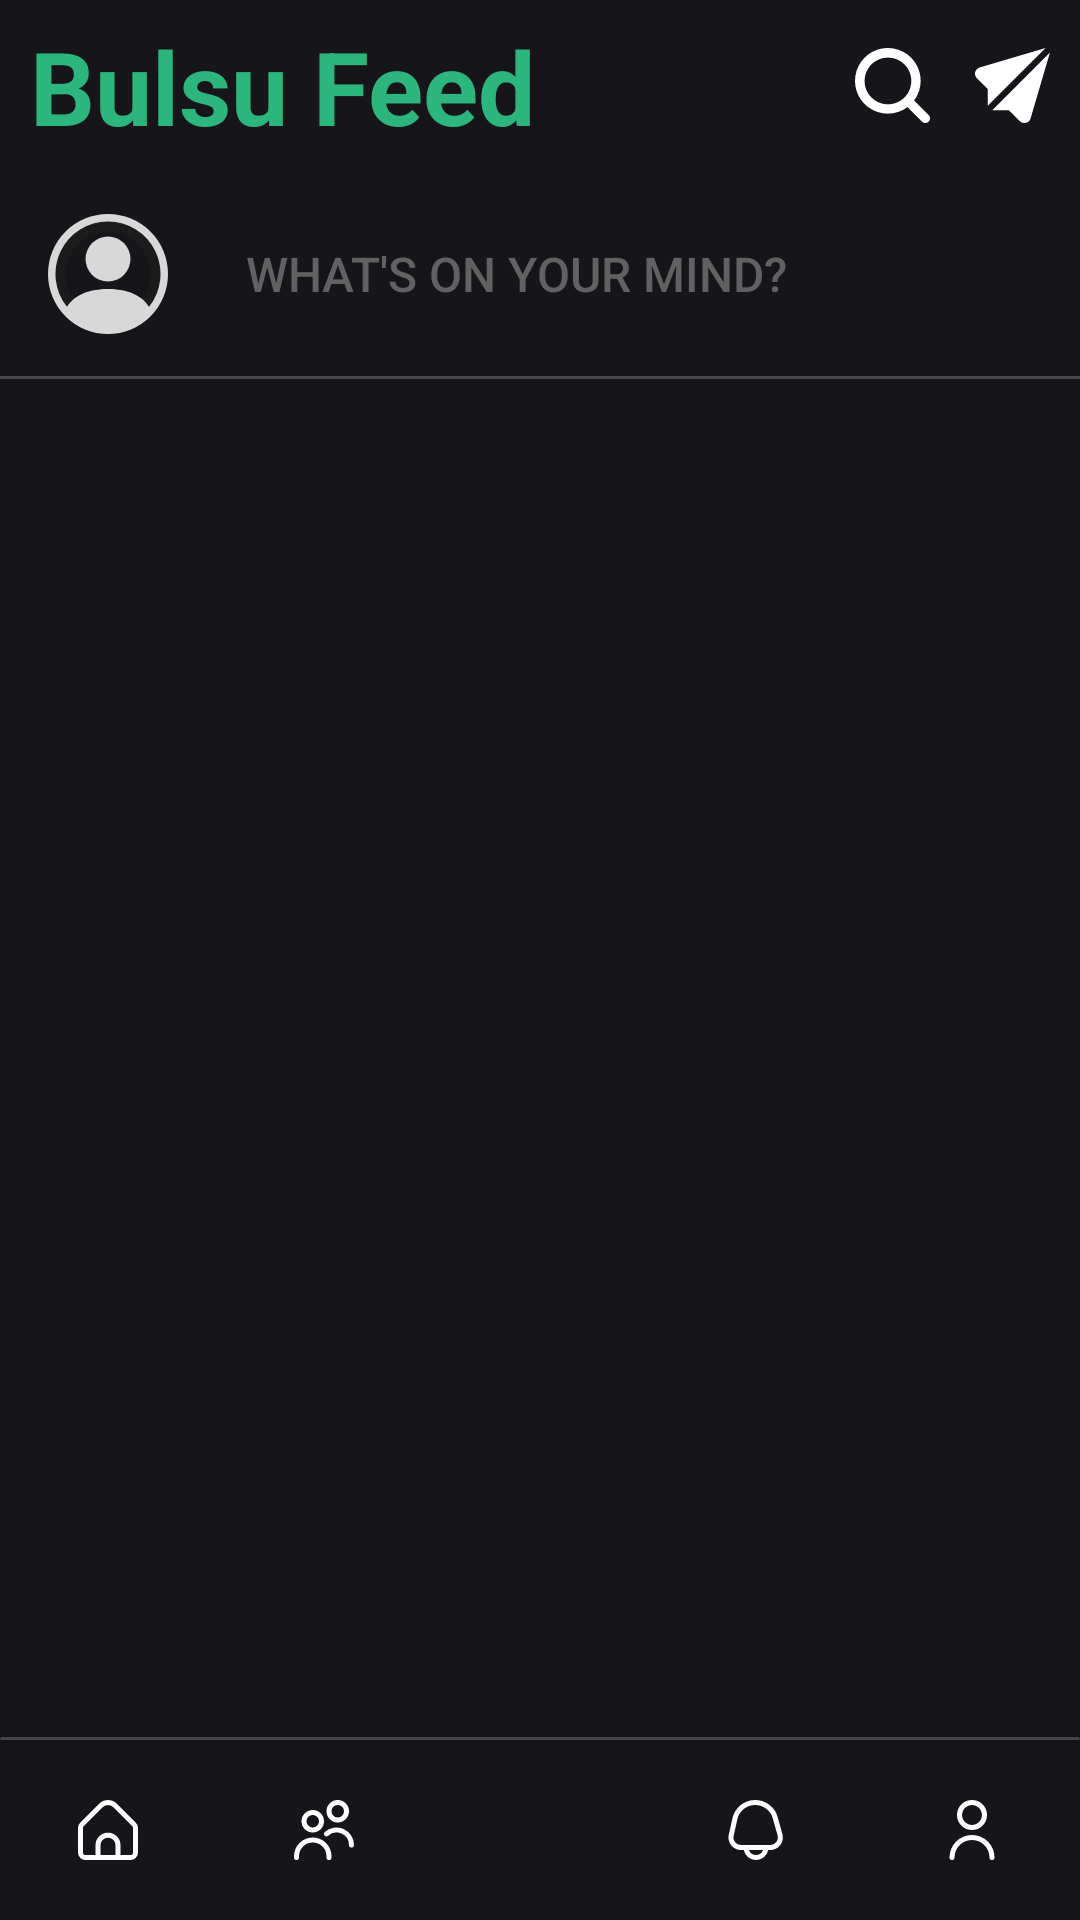

Icons on this 1080px×1920px Android screen, each with its box as (x1, y1, x2, y2):
friends: (294, 1800, 354, 1860)
home: (78, 1800, 138, 1860)
message: (975, 48, 1050, 123)
notification: (728, 1800, 783, 1860)
profile: (48, 214, 168, 334), (949, 1800, 995, 1860)
search: (855, 48, 930, 123)
